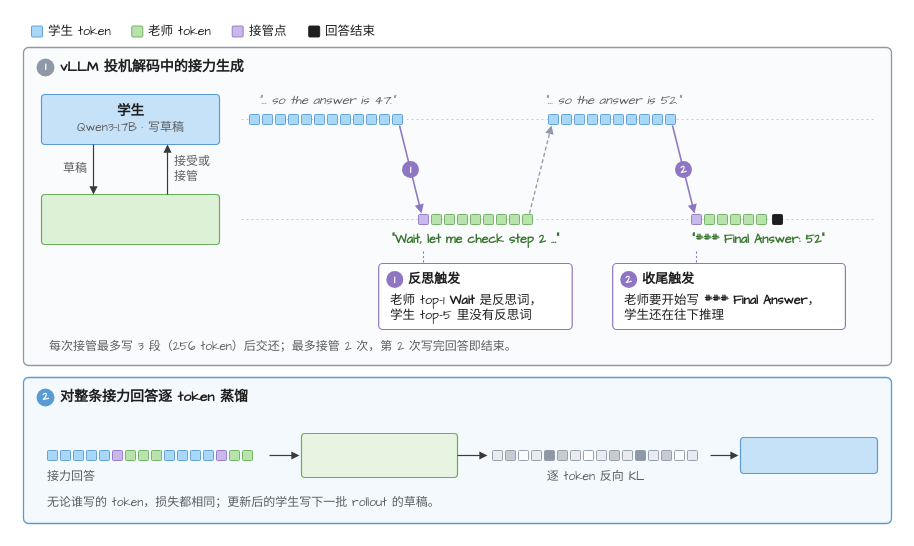
The diagram is 914 pixels wide and 546 high, and some of its shapes have lost their labels. Here are the shapes that lost their labels. From the top down, the centre of each, then its label:
At [130,219]: "老师 Qwen3-4B · 验证".
At [379,455]: "老师打分器 单独一张卡".
At [808,455]: "更新学生".
